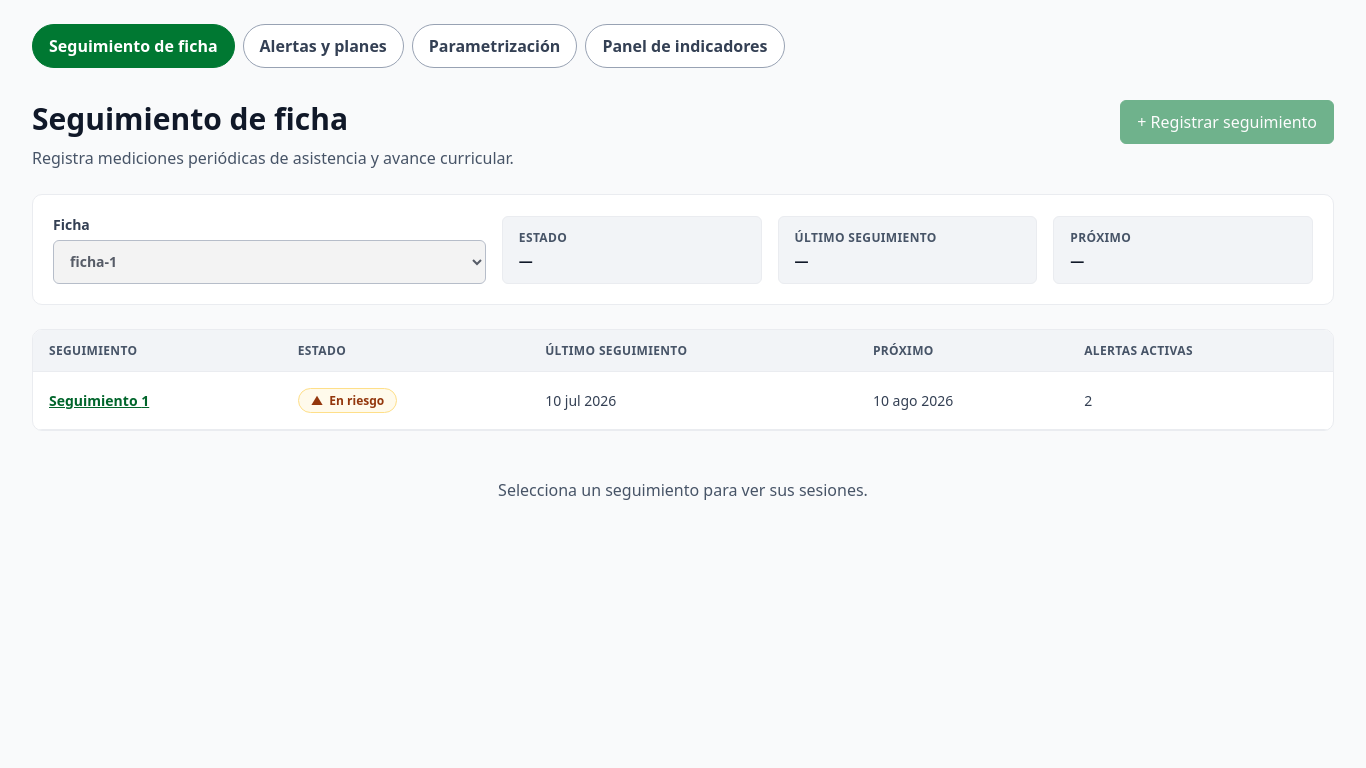
Test: HU-MON-007 seguimiento de ficha › E5: abre el detalle de una sesion con GET .../tracking-sessions/{session_id}
Click the button with aria-label "Abrir seguimiento 1" at (99, 400), box [49,390,149,410]
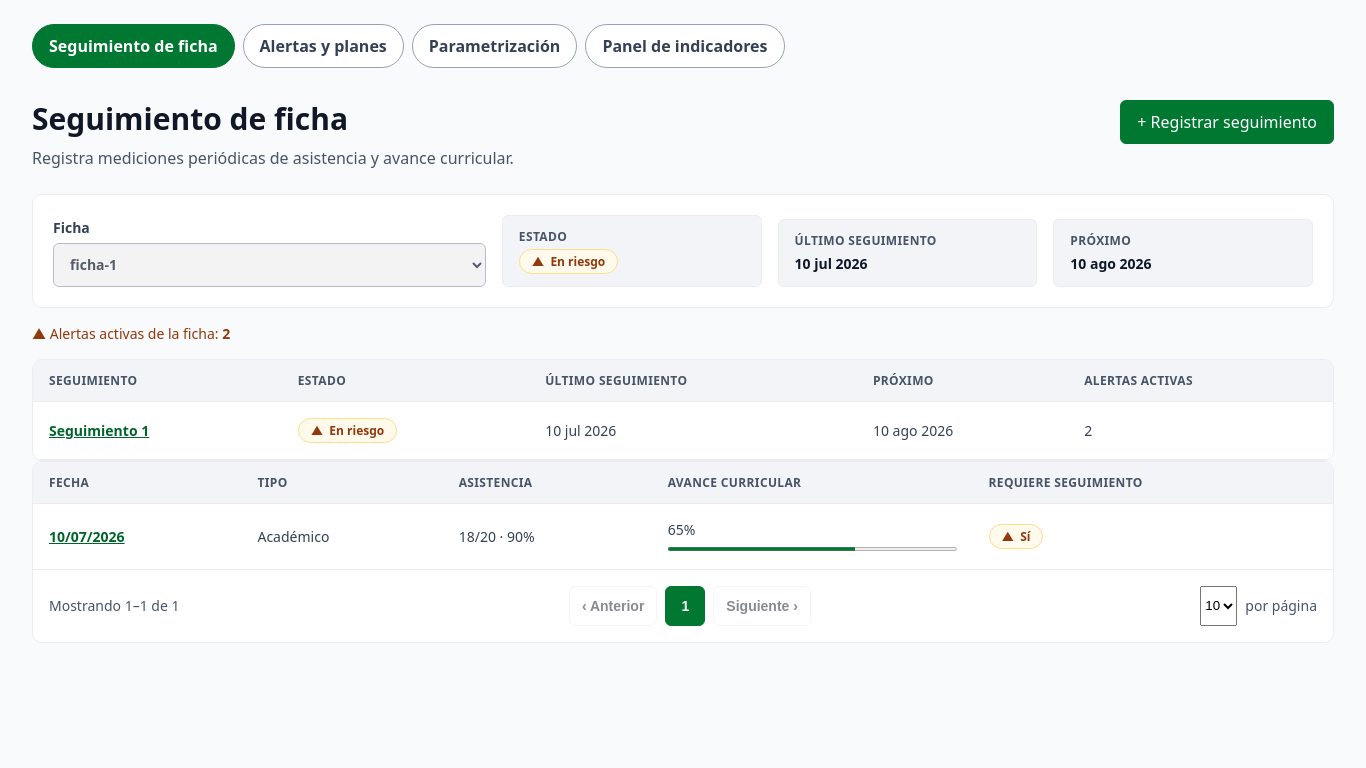
Check: the text "Académico" is shown
Click the text "Académico" at (342, 536), box [242,504,443,569]
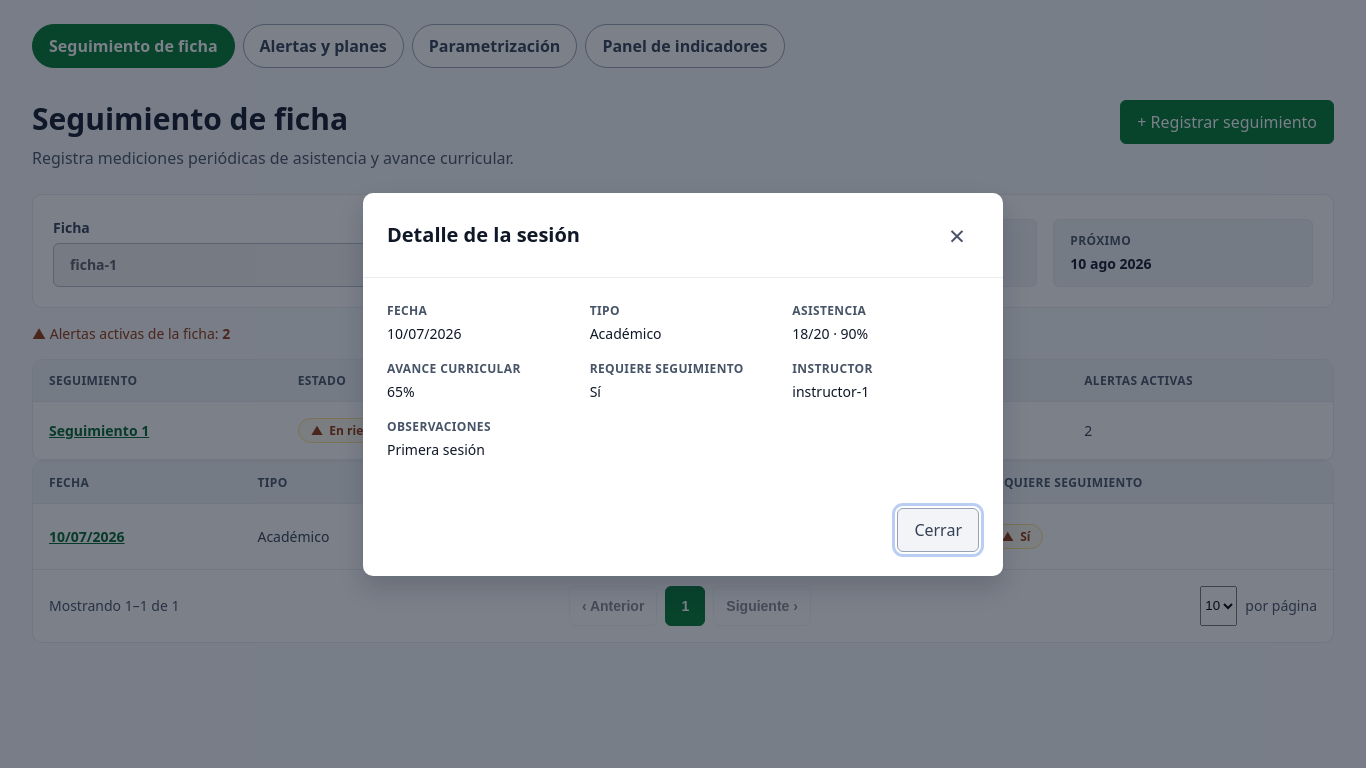
Check: the dialog is shown, box [363,192,1003,576]
